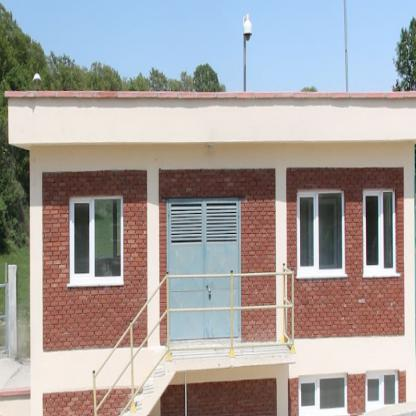door: (168, 200, 239, 343)
window: (72, 198, 122, 276), (299, 192, 343, 270), (365, 191, 395, 269), (300, 377, 346, 411), (366, 374, 396, 407)
